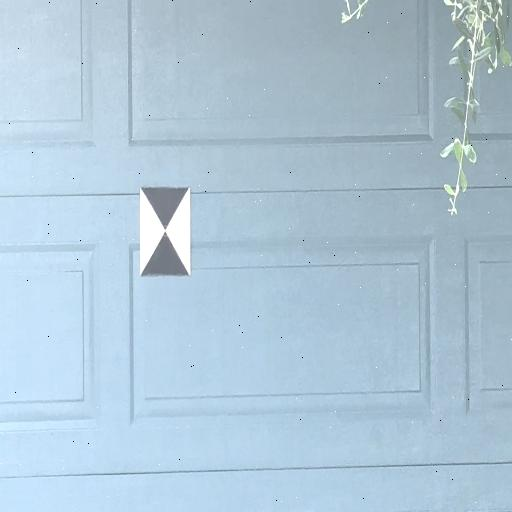target: (140, 188, 191, 276)
